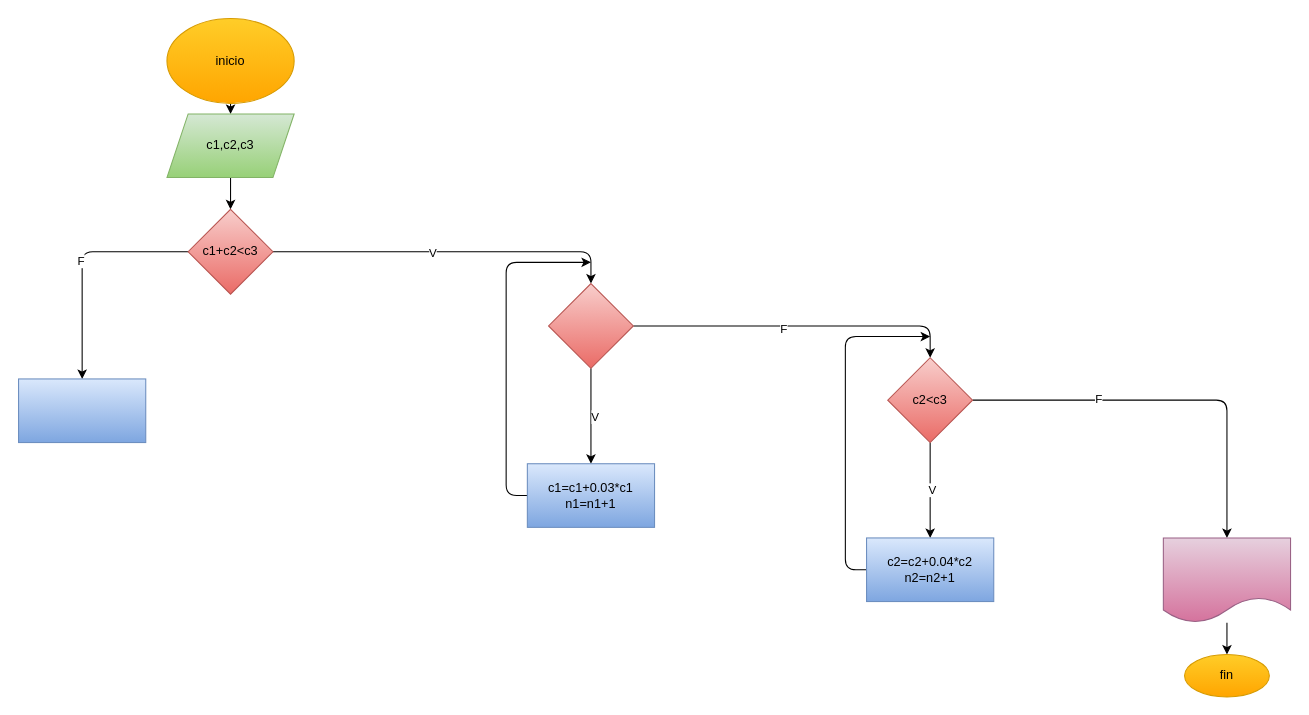
Image size: 1309x715. Some labels were removed from this diagram. Each missing label, with the centre of its shape:
"c1,c2,n1,n2" belongs at [1226,580].
"c1<c3" belongs at [590,325].
"intenta de nuevo colocar el capital del negocio" belongs at [81,410].
